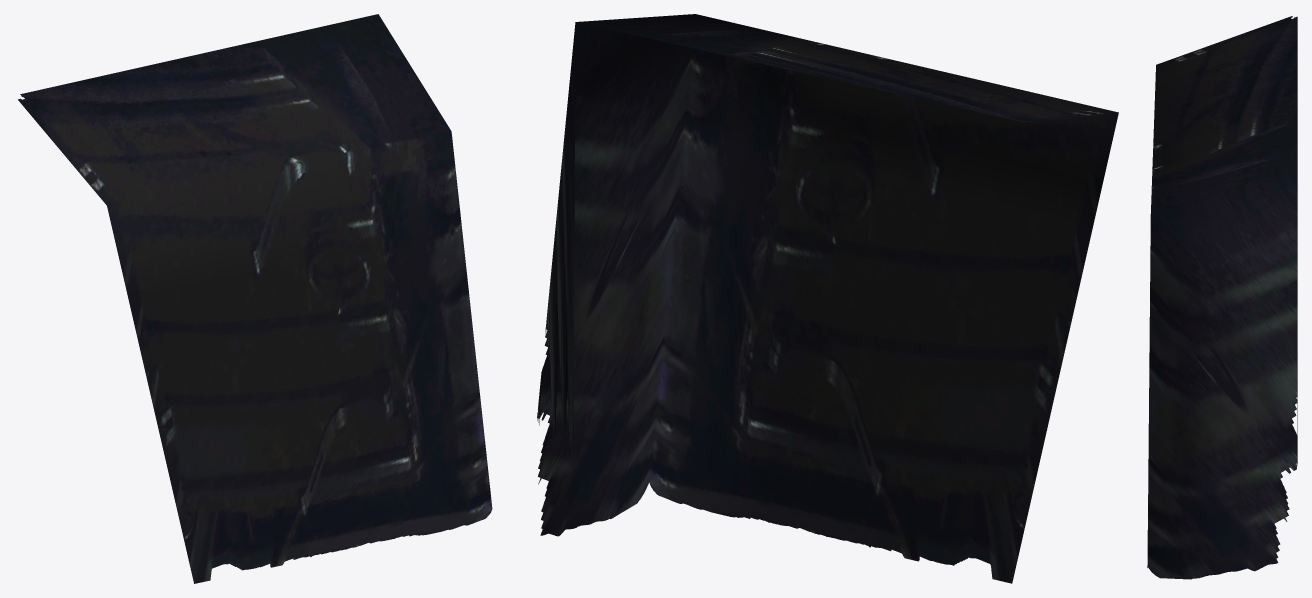
The picture shows the model from 3 angles, left to right: view 1: azimuth 30°, elevation 25°; view 2: azimuth 150°, elevation 25°; view 3: azimuth 270°, elevation 25°; orthographic projection. The views are drawn at different scales.
Visible parts, largest first — view 1: mesh_162_269.nr; view 2: mesh_162_269.nr; view 3: mesh_162_269.nr.
Boxes of the visible parts, bbox=[...] form: mesh_162_269.nr: bbox=[18, 14, 492, 583]; mesh_162_269.nr: bbox=[537, 14, 1118, 583]; mesh_162_269.nr: bbox=[1147, 16, 1297, 579].
Bounding box in the file's own units: 1.06 × 1.14 × 0.3893.
